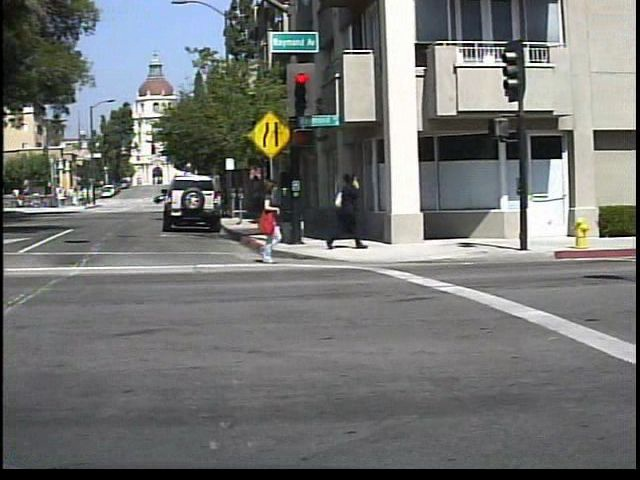person: (248, 177, 299, 266), (332, 167, 372, 253)
